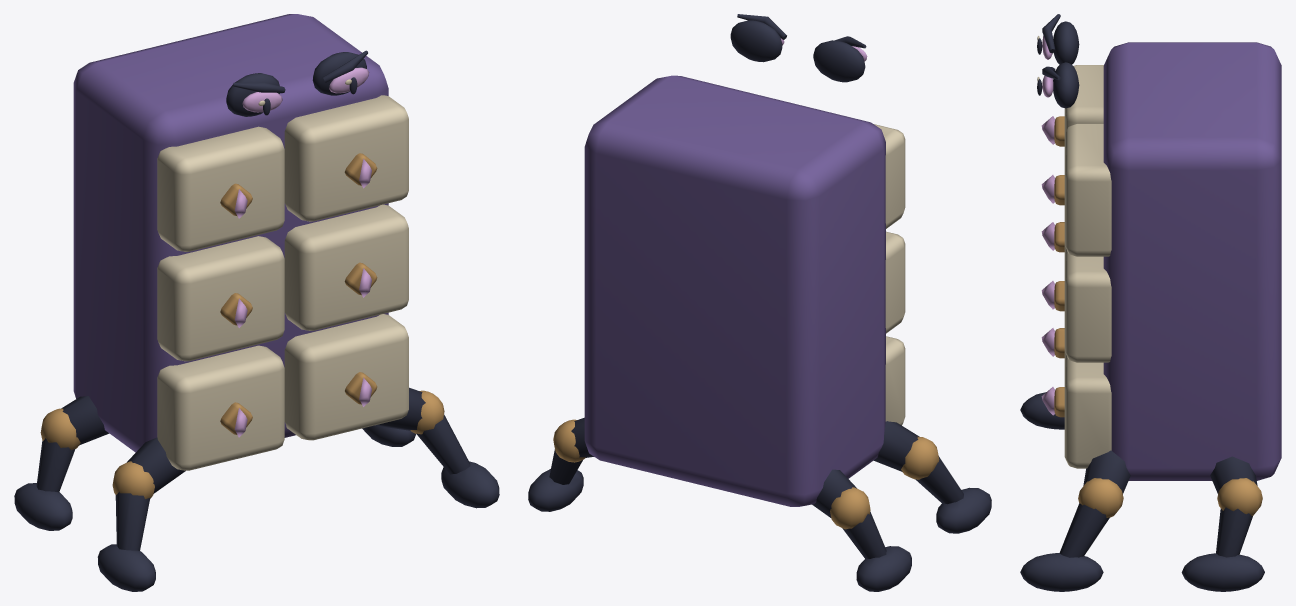
File: miniboss_5.glb
3 renders of one model, left to right at view 1: azimuth 30°, elevation 25°; view 2: azimuth 150°, elevation 25°; view 3: azimuth 270°, elevation 25°, orthographic. The views are drawn at different scales.
Visible parts, largest first — view 1: Email_Art_tete_0, Email_BestiaireSculpte, Email_Art_tibia_g_0, Email_Art_tibia_g_1, Email_Art_tibia_d_0, Email_Art_patte_g_0, Email_Art_patte_g_1, Email_Art_tibia_d_1, Email_Art_patte_d_0; view 2: Email_BestiaireSculpte, Email_Art_tete_0, Email_Art_tibia_g_1, Email_Art_tibia_g_0, Email_Art_tibia_d_1, Email_Art_patte_g_0, Email_Art_patte_g_1; view 3: Email_BestiaireSculpte, Email_Art_tete_0, Email_Art_tibia_d_0, Email_Art_tibia_d_1, Email_Art_patte_d_0, Email_Art_patte_d_1, Email_Art_tibia_g_0.
Boxes of the visible parts, x1,y1,x2,y2 form: Email_Art_tete_0: [157, 50, 408, 470]; Email_BestiaireSculpte: [73, 14, 388, 452]; Email_Art_tibia_g_0: [97, 461, 155, 591]; Email_Art_tibia_g_1: [14, 408, 80, 530]; Email_Art_tibia_d_0: [410, 390, 499, 508]; Email_Art_patte_g_0: [127, 437, 185, 493]; Email_Art_patte_g_1: [61, 396, 109, 445]; Email_Art_tibia_d_1: [362, 425, 415, 446]; Email_Art_patte_d_0: [374, 387, 425, 430]; Email_BestiaireSculpte: [584, 75, 885, 506]; Email_Art_tete_0: [730, 14, 905, 425]; Email_Art_tibia_g_1: [830, 487, 911, 591]; Email_Art_tibia_g_0: [901, 436, 991, 533]; Email_Art_tibia_d_1: [528, 419, 585, 511]; Email_Art_patte_g_0: [874, 421, 919, 471]; Email_Art_patte_g_1: [812, 469, 856, 517]; Email_BestiaireSculpte: [1103, 42, 1281, 480]; Email_Art_tete_0: [1037, 14, 1111, 468]; Email_Art_tibia_d_0: [1020, 478, 1123, 591]; Email_Art_tibia_d_1: [1181, 478, 1264, 591]; Email_Art_patte_d_0: [1083, 450, 1130, 494]; Email_Art_patte_d_1: [1210, 456, 1257, 493]; Email_Art_tibia_g_0: [1020, 392, 1064, 429].
Bounding box in the file's own units: 0.774 × 0.918 × 0.47.
